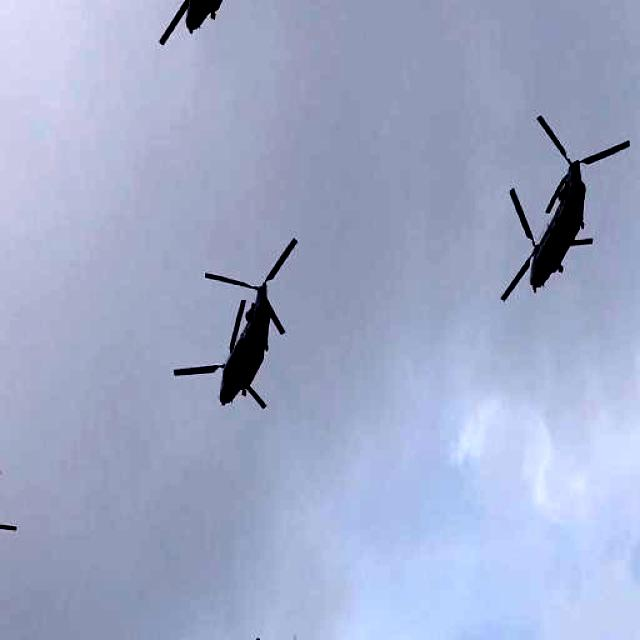drone: (490, 122, 632, 309), (175, 244, 299, 428), (150, 0, 291, 62), (0, 458, 22, 584)
